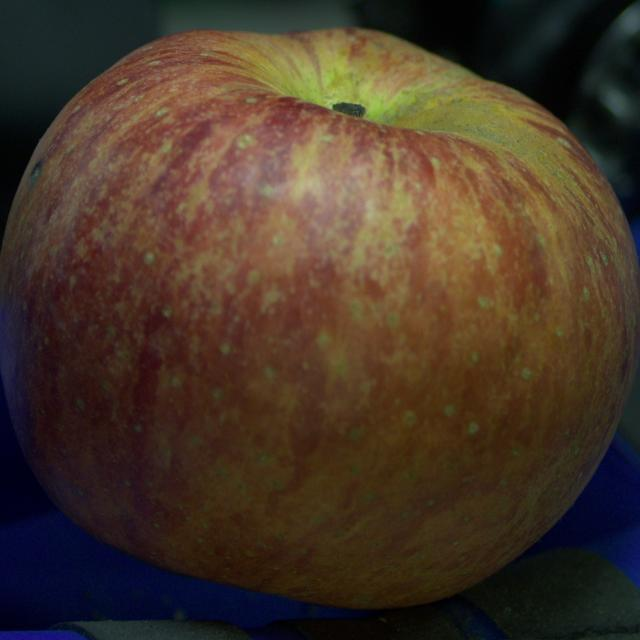apple: (0, 29, 639, 608)
pest: (29, 161, 41, 188)
